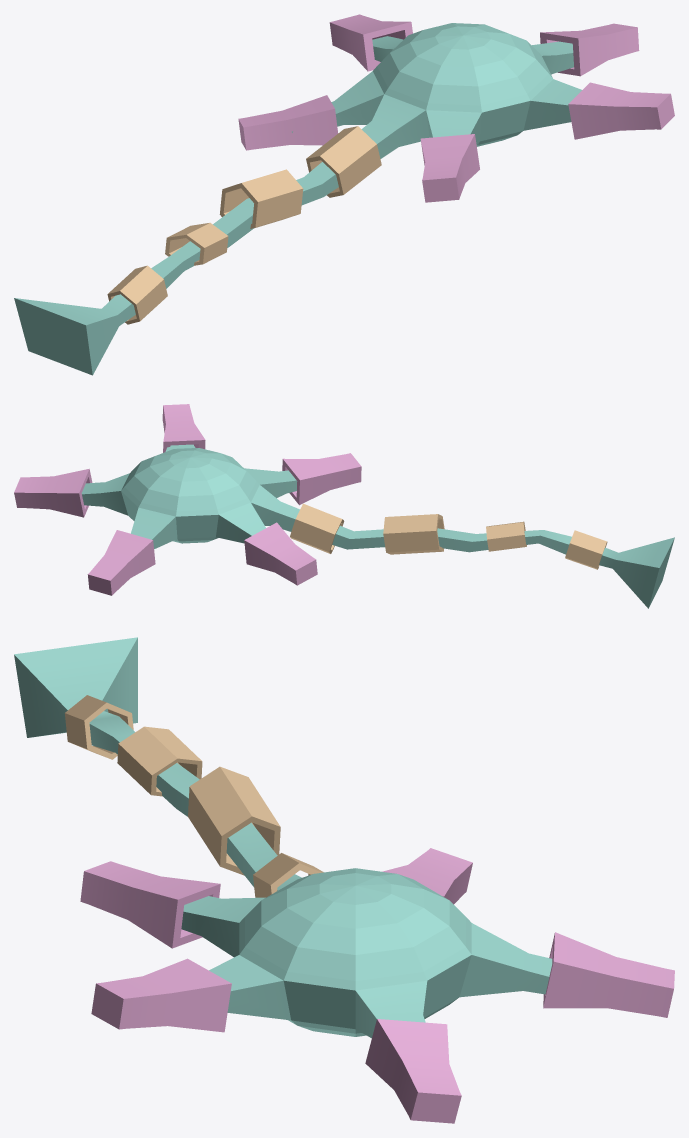
Rendered from neuroModel.fbx.
The picture shows the model from 3 angles, top to bottom: view 1: azimuth 30°, elevation 25°; view 2: azimuth 150°, elevation 25°; view 3: azimuth 270°, elevation 25°; orthographic projection. The views are drawn at different scales.
Visible parts, largest first — view 1: pSphere1, pCube3, pCube5, pCube4, pPipe1, pPipe2, pCube2, pCube1, pPipe4, pPipe3; view 2: pSphere1, pCube5, pCube1, pCube2, pCube4, pPipe1, pPipe2, pCube3, pPipe4, pPipe3; view 3: pSphere1, pCube3, pCube1, pCube2, pCube4, pPipe1, pPipe3, pCube5, pPipe4, pPipe2.
Part boxes in pixels (bbox=[...]): pSphere1: bbox=[14, 23, 581, 375]; pCube3: bbox=[568, 82, 674, 139]; pCube5: bbox=[238, 95, 338, 150]; pCube4: bbox=[420, 134, 479, 202]; pPipe1: bbox=[219, 169, 303, 228]; pPipe2: bbox=[306, 126, 381, 197]; pCube2: bbox=[540, 23, 639, 76]; pCube1: bbox=[329, 14, 412, 71]; pPipe4: bbox=[107, 265, 167, 324]; pPipe3: bbox=[165, 222, 228, 265]; pSphere1: bbox=[81, 444, 674, 608]; pCube5: bbox=[244, 522, 317, 585]; pCube1: bbox=[87, 530, 155, 595]; pCube2: bbox=[14, 468, 92, 517]; pCube4: bbox=[282, 453, 361, 505]; pPipe1: bbox=[383, 514, 444, 554]; pPipe2: bbox=[290, 503, 344, 553]; pCube3: bbox=[162, 404, 205, 452]; pPipe4: bbox=[565, 530, 607, 569]; pPipe3: bbox=[486, 521, 526, 551]; pSphere1: bbox=[14, 637, 552, 1038]; pCube3: bbox=[91, 958, 231, 1032]; pCube1: bbox=[543, 932, 674, 1017]; pCube2: bbox=[365, 1019, 461, 1123]; pCube4: bbox=[80, 861, 220, 948]; pPipe1: bbox=[188, 766, 280, 875]; pPipe3: bbox=[117, 726, 202, 796]; pCube5: bbox=[382, 848, 472, 904]; pPipe4: bbox=[64, 695, 133, 759]; pPipe2: bbox=[253, 853, 323, 897].
Bounding box in the file's own units: 9.25 × 1.58 × 5.41.
